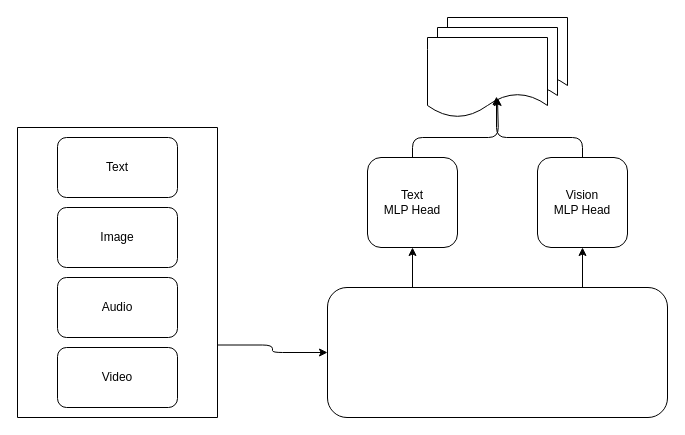
This 685x435 diagram has some shape labels left out. The shapes that lost their labels are listed below. From the top down, each one's centre as x and y in pixels, then its label:
At (x=487, y=77): "Classes".
At (x=497, y=352): "RWKV".
